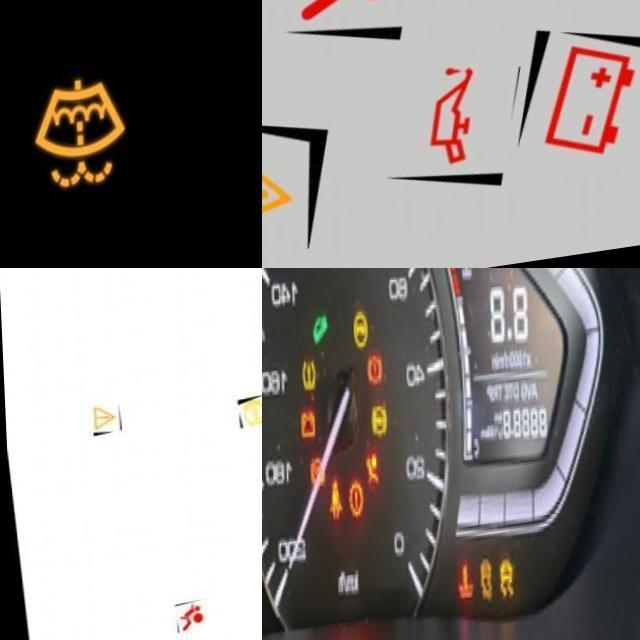High Engine Coolant Temperature: (451, 564, 470, 623)
Seat Belt: (321, 482, 340, 536)
